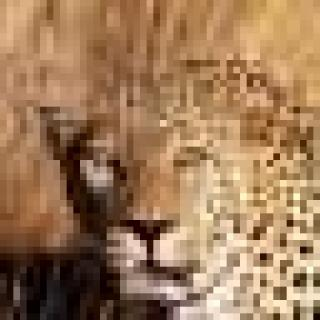Leopard: (35, 39, 316, 314)
